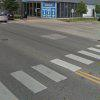Crosswalk: (6, 47, 100, 92)
